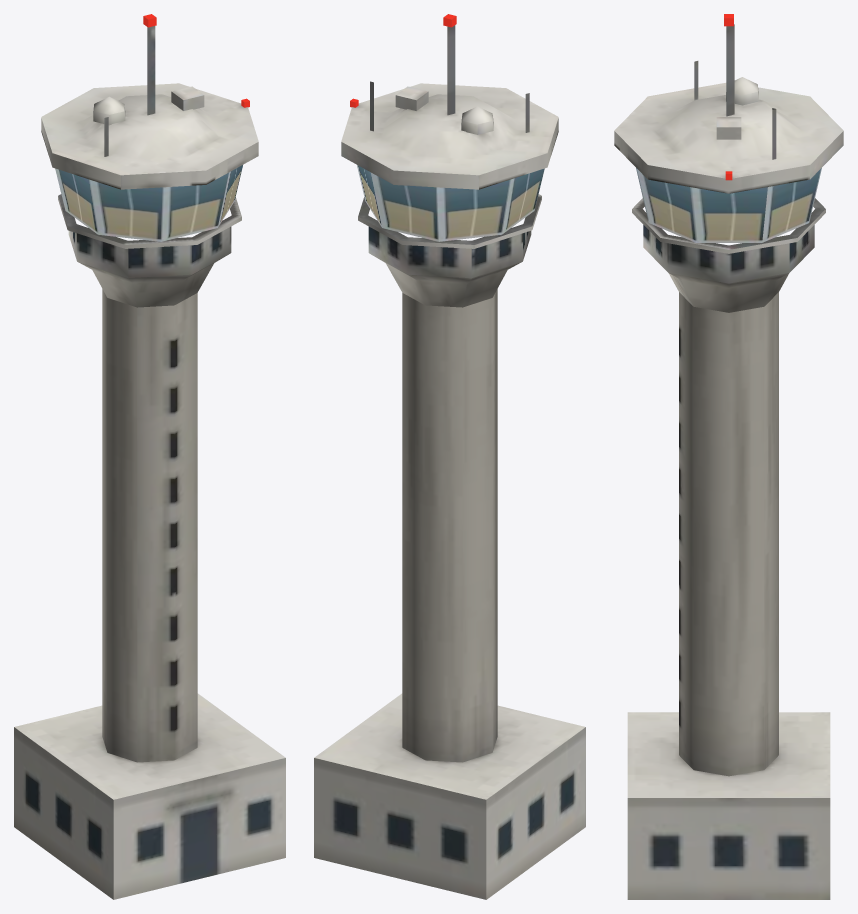
Rendered from atc_tower.glb.
3 views of the same model, side by side, from view 1: azimuth 30°, elevation 25°; view 2: azimuth 150°, elevation 25°; view 3: azimuth 270°, elevation 25° (orthographic).
Parts seen in each view (by area): view 1: atc_tower_body, atc_tower_sheet; view 2: atc_tower_body, atc_tower_sheet; view 3: atc_tower_body, atc_tower_sheet.
Boxes of the visible parts, box(x1,y1,x2,y2) form: atc_tower_body: box(14, 26, 285, 899); atc_tower_sheet: box(55, 14, 249, 241); atc_tower_body: box(314, 25, 585, 899); atc_tower_sheet: box(350, 14, 544, 241); atc_tower_body: box(614, 24, 843, 899); atc_tower_sheet: box(636, 14, 821, 242).
Bounding box in the file's own units: 20.7 × 83.3 × 20.6.
2 materials, 2 textured.
